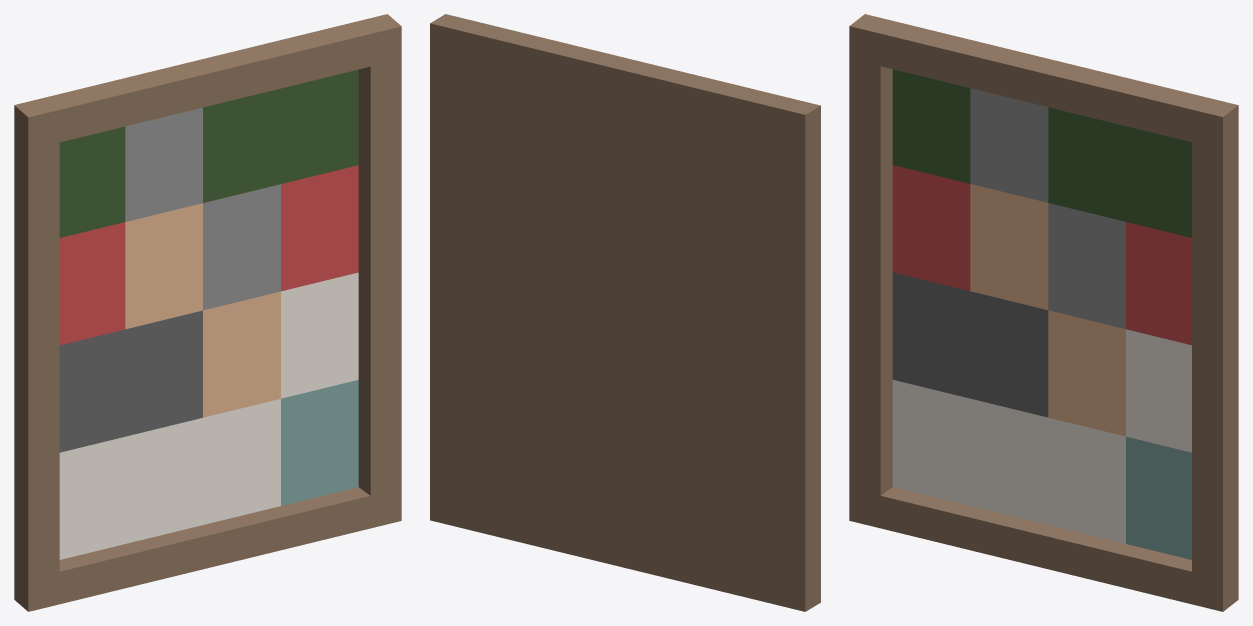
The model's file is Painting3.fbx.
The picture shows the model from 3 angles, left to right: view 1: azimuth 30°, elevation 25°; view 2: azimuth 150°, elevation 25°; view 3: azimuth 330°, elevation 25°; orthographic projection.
Visible parts, largest first — view 1: Painting3; view 2: Painting3; view 3: Painting3.
Boxes of the visible parts, x1=… form: Painting3: x1=14, y1=14, x2=401, y2=611; Painting3: x1=430, y1=14, x2=820, y2=611; Painting3: x1=849, y1=14, x2=1238, y2=611.
Bounding box in the file's own units: 266 × 337 × 18.26.
